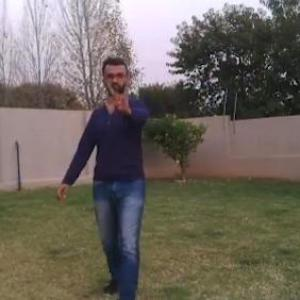takeoff-hand: (104, 80, 140, 116)
